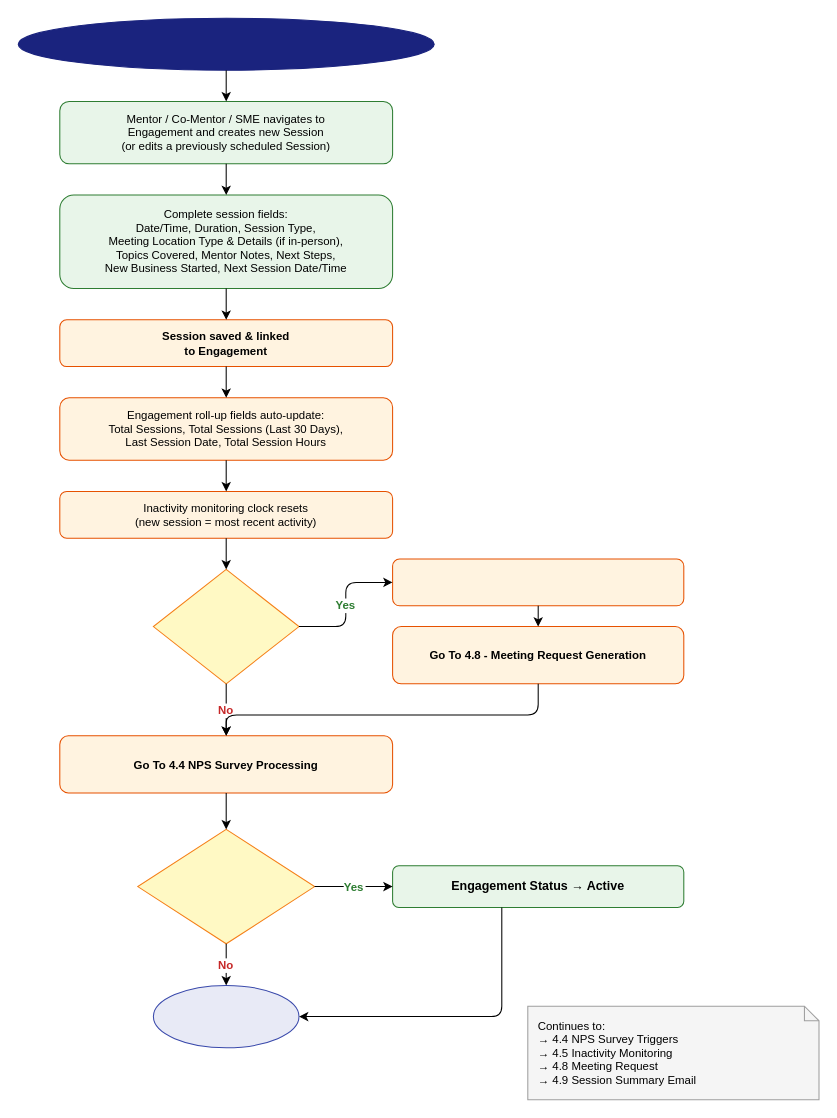
Image size: 837x1118. Some labels were removed from this diagram. Here are the shapes that lost their labels. From the top down, the centre of each, then its label:
At [225,43]: "4.3 — Session Logging".
At [538,582]: "Engagement Next Session Date/Time field set".
At [225,626]: "Next Session Date/Time set?".
At [226,886]: "First session on Assigned Engagement?".
At [225,1016]: "Session Complete".
